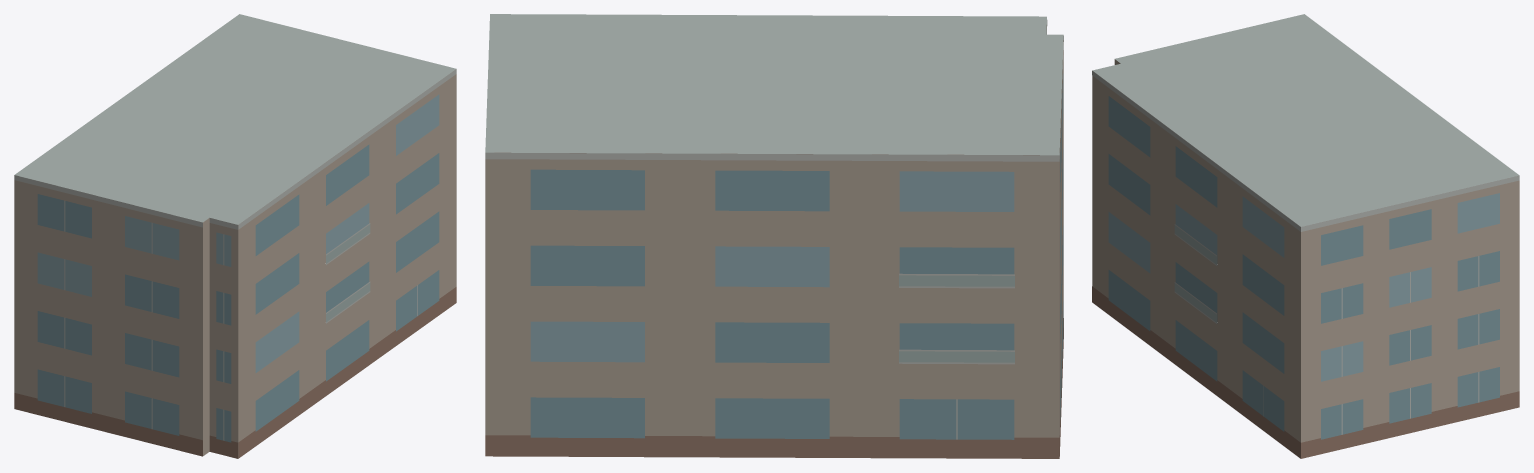
Rendered from survey-upis-33015434.glb.
3 views of the same model, side by side, from view 1: azimuth 30°, elevation 25°; view 2: azimuth 150°, elevation 25°; view 3: azimuth 270°, elevation 25° (orthographic). The views are drawn at different scales.
Visible parts, largest first — view 1: survey-upis-33015434.tmp; view 2: survey-upis-33015434.tmp; view 3: survey-upis-33015434.tmp.
Part boxes in pixels (x1,y1,x2,y2): survey-upis-33015434.tmp: (14,14,456,458); survey-upis-33015434.tmp: (485,14,1063,458); survey-upis-33015434.tmp: (1092,14,1519,458).
Size of the model in its own units: 22.38 by 11.35 by 18.98.
